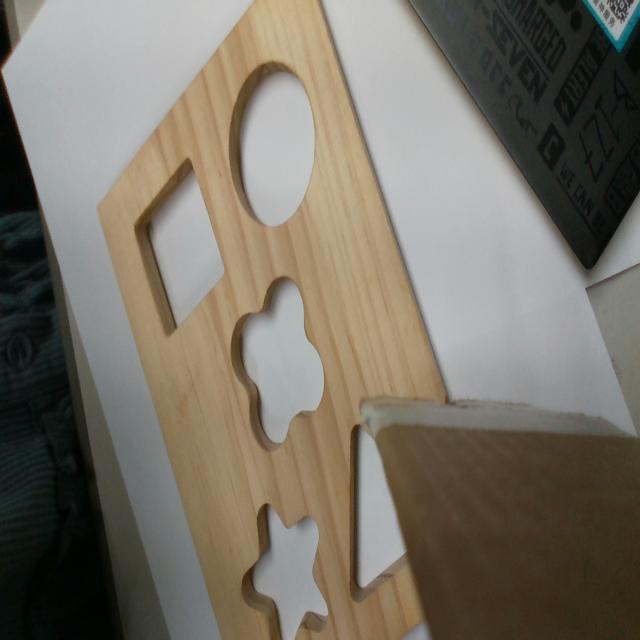circle: (229, 62, 316, 227)
flower: (231, 279, 324, 450)
square: (132, 155, 227, 336), (241, 504, 329, 637)
star: (348, 422, 411, 607)
